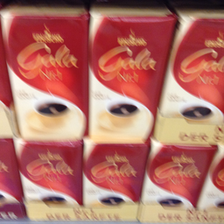coffee: (89, 3, 177, 142), (1, 4, 90, 140), (162, 5, 223, 124), (142, 140, 217, 206), (15, 139, 82, 206), (84, 141, 148, 206)
